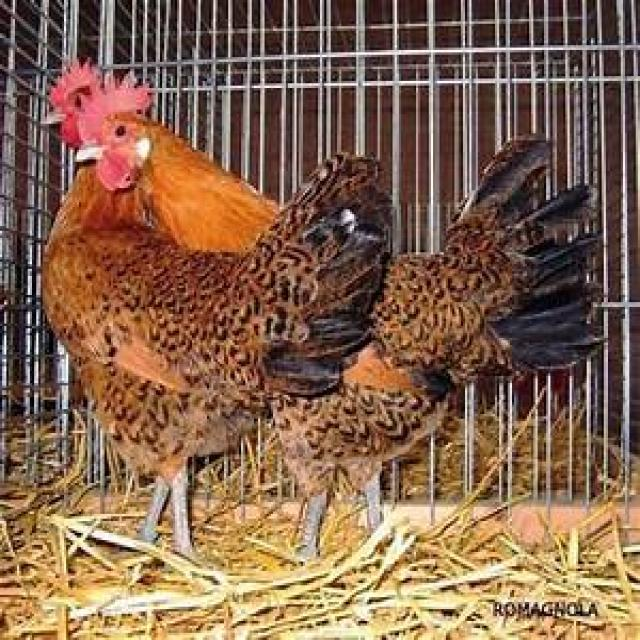hen: (41, 64, 393, 561), (273, 138, 595, 561), (139, 119, 279, 255)
